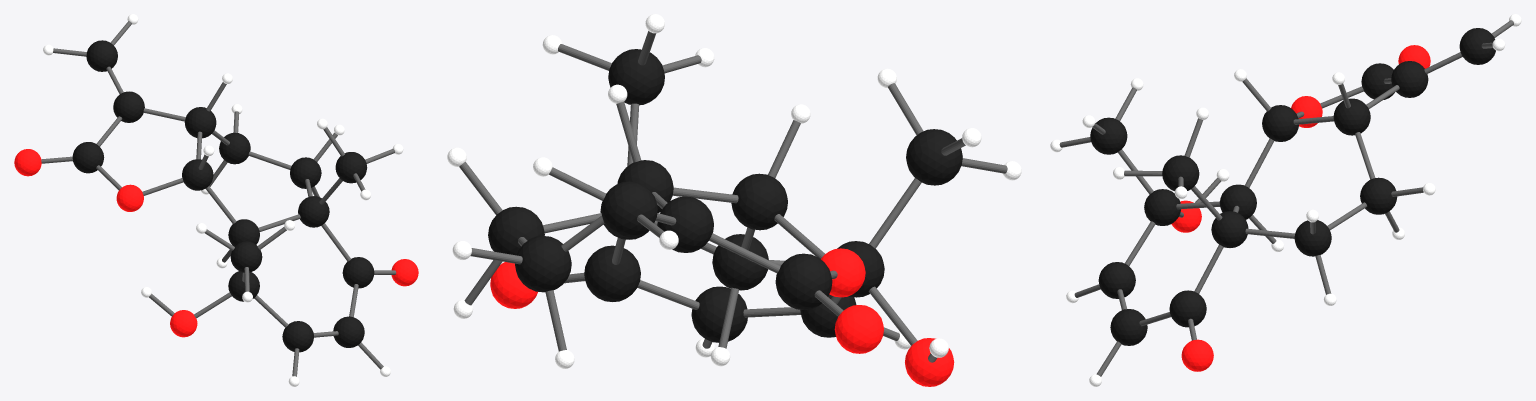
File: molecule.glb
The picture shows the model from 3 angles, left to right: view 1: azimuth 30°, elevation 25°; view 2: azimuth 150°, elevation 25°; view 3: azimuth 270°, elevation 25°; orthographic projection. The views are drawn at different scales.
Parts seen in each view (by area): view 1: geometry_0, geometry_1, geometry_2, geometry_11, geometry_14, geometry_13, geometry_9, geometry_16, geometry_6, geometry_8, geometry_5, geometry_7 (+7 smaller); view 2: geometry_7, geometry_2, geometry_5, geometry_0, geometry_11, geometry_16, geometry_10, geometry_1, geometry_13, geometry_18, geometry_3, geometry_8 (+22 smaller); view 3: geometry_5, geometry_1, geometry_15, geometry_11, geometry_9, geometry_13, geometry_7, geometry_14, geometry_6, geometry_16, geometry_8, geometry_0 (+7 smaller).
Boxes of the visible parts, x1=… form: geometry_0: x1=86, y1=40, x2=117, y2=71; geometry_1: x1=113, y1=91, x2=144, y2=122; geometry_2: x1=72, y1=142, x2=104, y2=173; geometry_11: x1=342, y1=257, x2=374, y2=288; geometry_14: x1=282, y1=321, x2=313, y2=352; geometry_13: x1=333, y1=316, x2=364, y2=347; geometry_9: x1=298, y1=196, x2=329, y2=227; geometry_16: x1=230, y1=241, x2=262, y2=272; geometry_6: x1=184, y1=107, x2=216, y2=138; geometry_8: x1=290, y1=157, x2=321, y2=188; geometry_5: x1=182, y1=159, x2=213, y2=190; geometry_7: x1=219, y1=132, x2=250, y2=164; geometry_7: x1=515, y1=236, x2=571, y2=292; geometry_2: x1=775, y1=253, x2=832, y2=309; geometry_5: x1=731, y1=173, x2=787, y2=230; geometry_0: x1=601, y1=181, x2=657, y2=237; geometry_11: x1=584, y1=245, x2=640, y2=301; geometry_16: x1=906, y1=129, x2=962, y2=185; geometry_10: x1=608, y1=49, x2=664, y2=105; geometry_1: x1=657, y1=196, x2=713, y2=252; geometry_13: x1=691, y1=286, x2=747, y2=342; geometry_18: x1=712, y1=234, x2=768, y2=290; geometry_3: x1=834, y1=305, x2=883, y2=353; geometry_8: x1=488, y1=206, x2=544, y2=255; geometry_5: x1=1262, y1=105, x2=1298, y2=141; geometry_1: x1=1391, y1=61, x2=1428, y2=97; geometry_15: x1=1144, y1=189, x2=1180, y2=225; geometry_11: x1=1169, y1=290, x2=1206, y2=327; geometry_9: x1=1211, y1=211, x2=1248, y2=247; geometry_13: x1=1110, y1=309, x2=1147, y2=345; geometry_7: x1=1360, y1=177, x2=1397, y2=214; geometry_14: x1=1098, y1=262, x2=1135, y2=298; geometry_6: x1=1333, y1=98, x2=1370, y2=135; geometry_16: x1=1090, y1=117, x2=1127, y2=154; geometry_8: x1=1294, y1=220, x2=1331, y2=256; geometry_0: x1=1459, y1=28, x2=1495, y2=64.
Size of the model in its own units: 0.2281 by 0.181 by 0.257.
